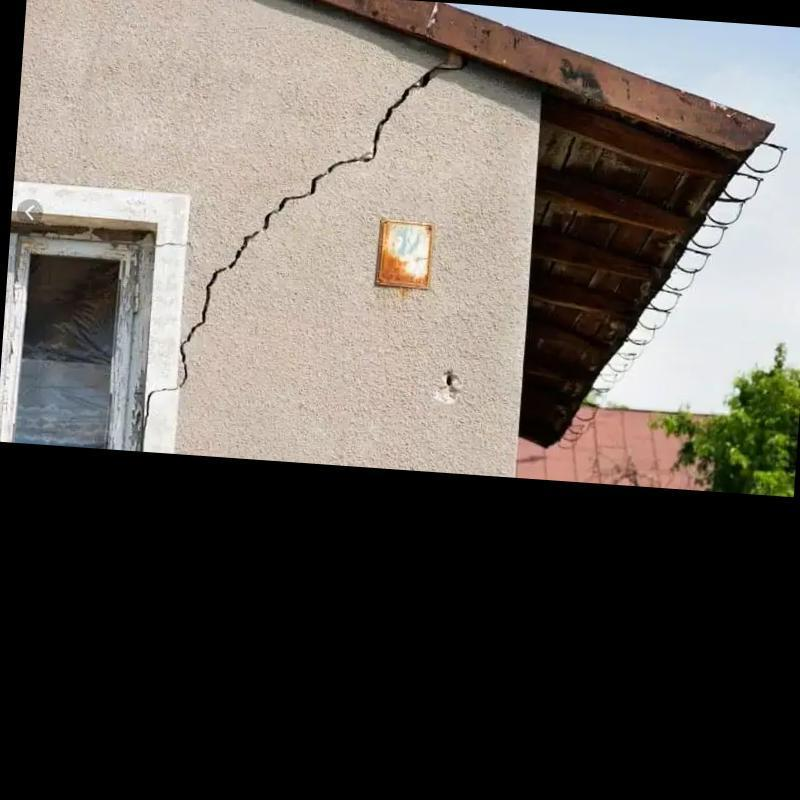crack: (144, 59, 467, 426)
